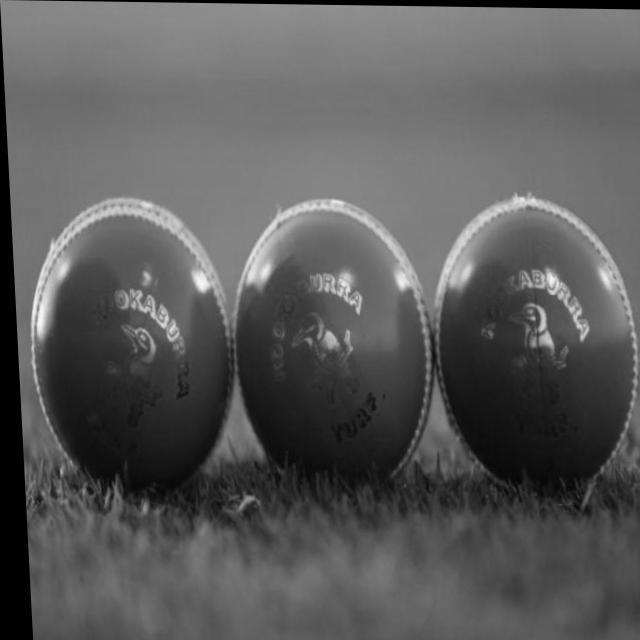cricket ball: (26, 198, 231, 493), (429, 194, 633, 487), (231, 199, 429, 480)
